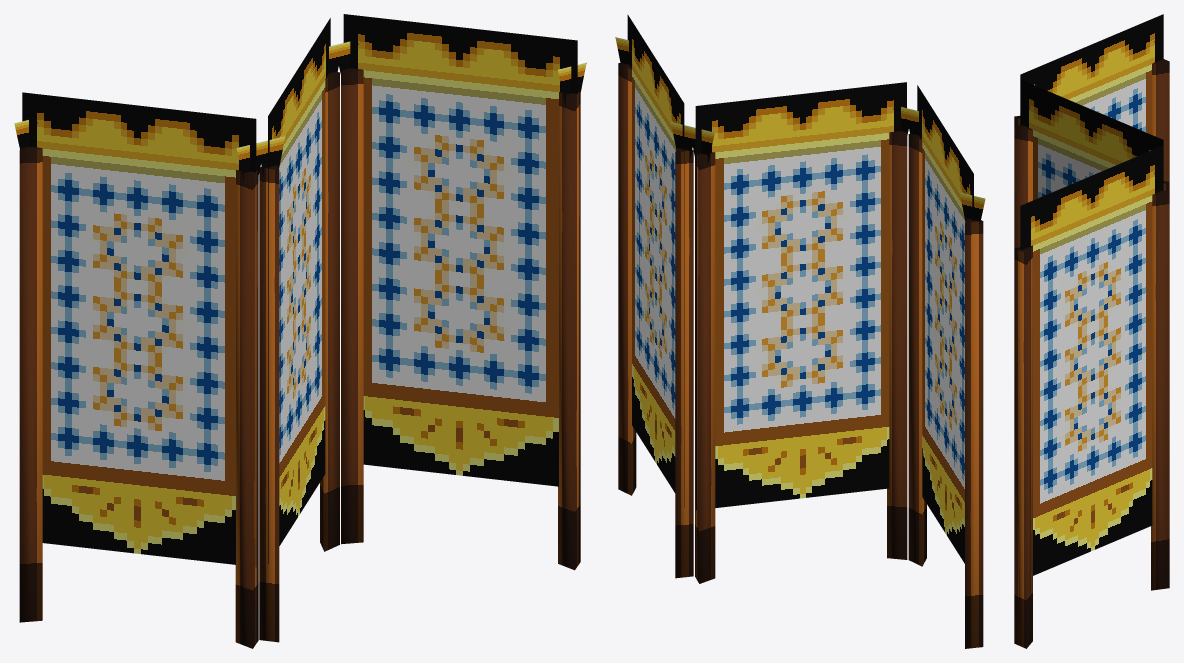
The picture shows the model from 3 angles, left to right: view 1: azimuth 30°, elevation 25°; view 2: azimuth 150°, elevation 25°; view 3: azimuth 270°, elevation 25°; orthographic projection. The views are drawn at different scales.
Parts seen in each view (by area): view 1: 3369kg_sh2_10; view 2: 3369kg_sh2_10; view 3: 3369kg_sh2_10.
Part boxes in pixels (x1,y1,x2,y2): 3369kg_sh2_10: [14, 14, 586, 648]; 3369kg_sh2_10: [615, 14, 985, 648]; 3369kg_sh2_10: [1014, 14, 1169, 648].
Size of the model in its own units: 1.92 by 1.96 by 0.6257.
Materials: 1 (1 with a texture image).
